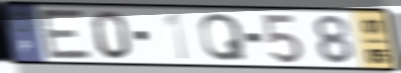0: (90, 9, 134, 62)
1: (164, 13, 189, 61)
5: (260, 12, 305, 65)
8: (312, 13, 356, 66)
E: (36, 8, 96, 61)
Q: (199, 12, 250, 63)
